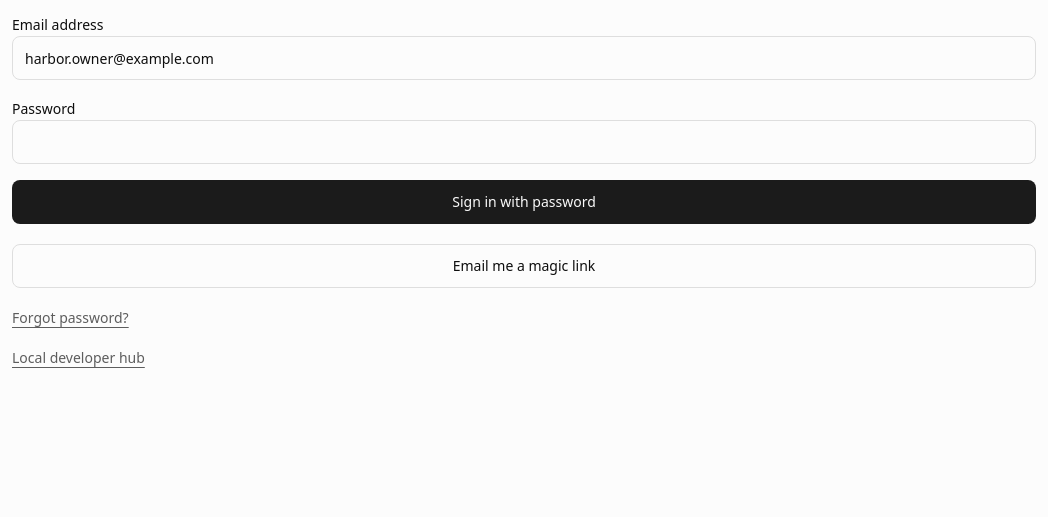
Test case: SignInForm local development assistance › links to the local mailbox only after a successful magic-link request
Click the button "Email me a magic link" at (524, 266), box [12, 244, 1036, 288]
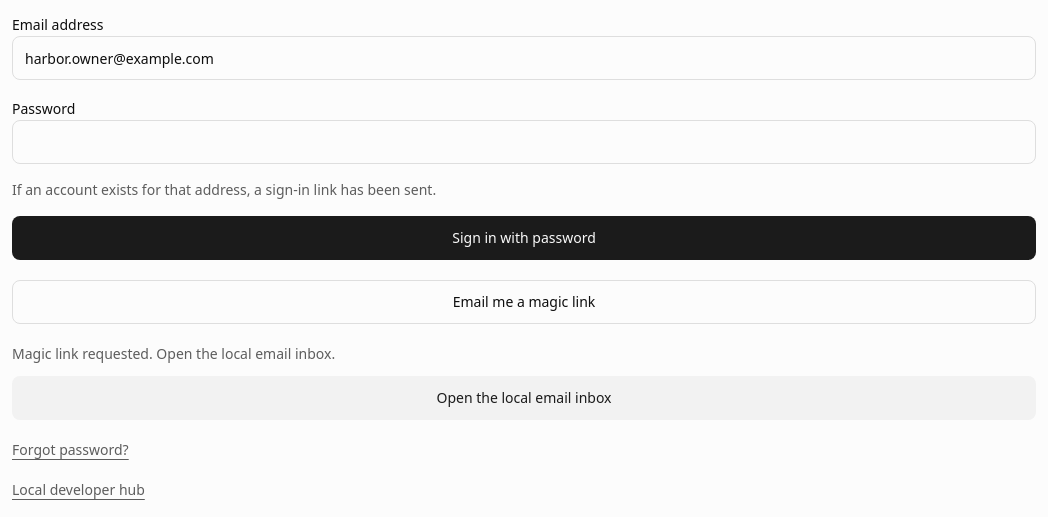
Check: the text "If an account exists for that address, a sign-in link has been sent." is shown, box [12, 180, 436, 199]
Check: the text "Magic link requested. Open the local email inbox." is shown, box [12, 344, 335, 363]
